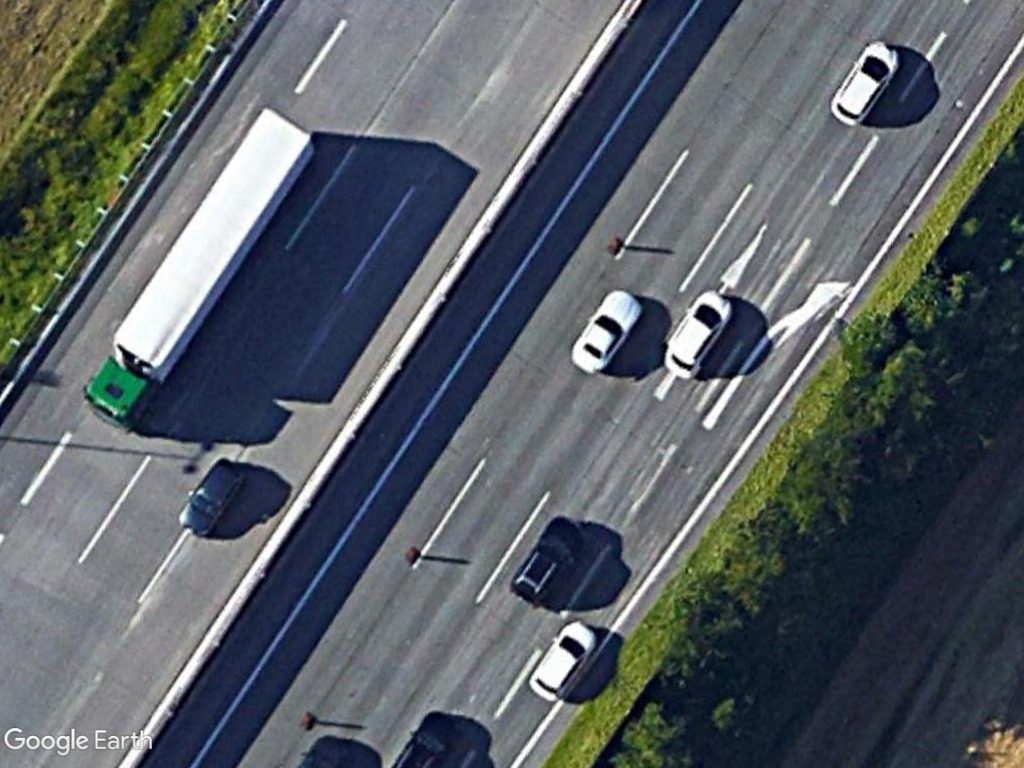car: (505, 512, 591, 608), (826, 33, 908, 131), (566, 281, 645, 378), (660, 284, 736, 384), (524, 611, 603, 706), (176, 452, 253, 540)
longvehicle: (81, 100, 316, 438)
